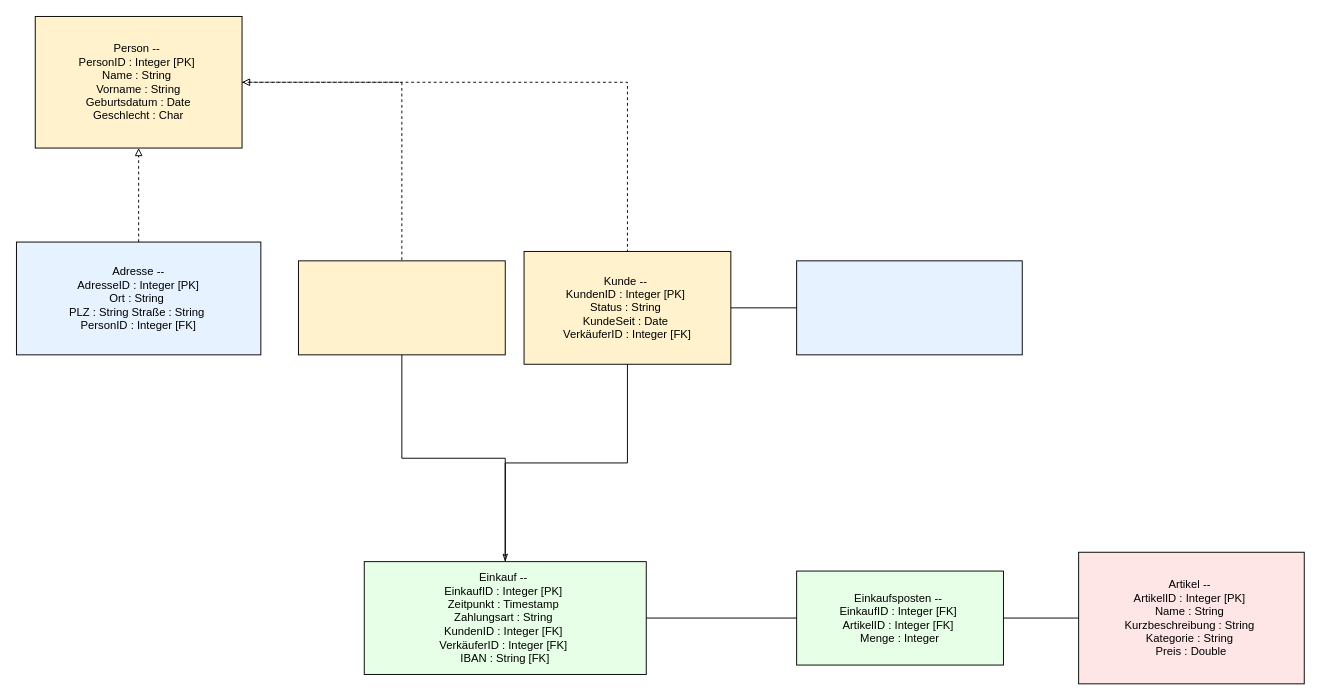
Image size: 1321x700. Some labels were removed from this diagram. Each missing label, with the centre of its shape:
"Bankverbindung -- IBAN : String [PK] BIC : String KundenID : Integer [FK]" goes at point (909, 307).
"Verkäufer -- VerkäuferID : Integer [PK] Eintrittsdatum : Date Stellung : String" goes at point (401, 307).
